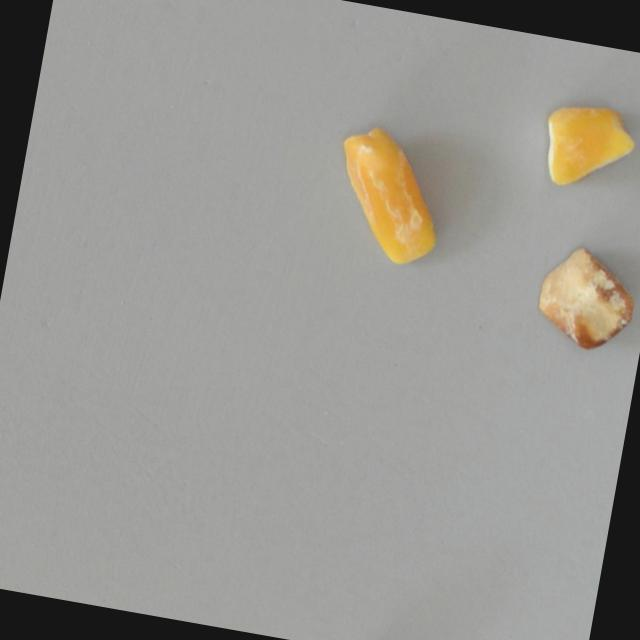dañado: (318, 110, 464, 279), (524, 235, 640, 369), (533, 92, 640, 201)
